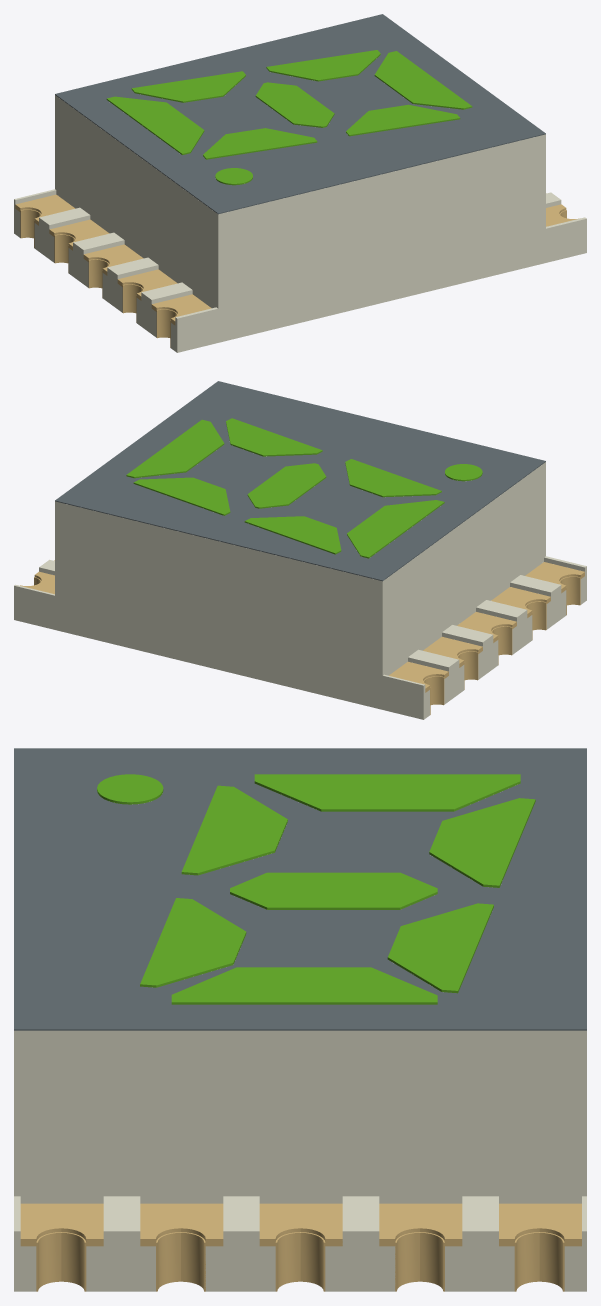
File: kc-kcsc02-123.glb
3 renders of one model, top to bottom at view 1: azimuth 30°, elevation 25°; view 2: azimuth 150°, elevation 25°; view 3: azimuth 270°, elevation 25°, orthographic. The views are drawn at different scales.
Visible parts, largest first — view 1: 0.75_0.75_0.6666666666666666_0, 0.16666666666666666_0.16666666666666666_0.16666666666666666_, 0.16666666666666666_0.4166666666666667_0_0, 0.75_0.5_0.25_0.9; view 2: 0.75_0.75_0.6666666666666666_0, 0.16666666666666666_0.16666666666666666_0.16666666666666666_, 0.16666666666666666_0.4166666666666667_0_0, 0.75_0.5_0.25_0.9; view 3: 0.75_0.75_0.6666666666666666_0, 0.16666666666666666_0.16666666666666666_0.16666666666666666_, 0.16666666666666666_0.4166666666666667_0_0, 0.75_0.5_0.25_0.9.
Part boxes in pixels (bbox=[...]): 0.75_0.75_0.6666666666666666_0: bbox=[14, 95, 586, 352]; 0.16666666666666666_0.16666666666666666_0.16666666666666666_: bbox=[55, 14, 545, 214]; 0.16666666666666666_0.4166666666666667_0_0: bbox=[106, 50, 472, 185]; 0.75_0.5_0.25_0.9: bbox=[15, 194, 578, 347]; 0.75_0.75_0.6666666666666666_0: bbox=[14, 462, 586, 719]; 0.16666666666666666_0.16666666666666666_0.16666666666666666_: bbox=[55, 381, 545, 581]; 0.16666666666666666_0.4166666666666667_0_0: bbox=[126, 418, 482, 558]; 0.75_0.5_0.25_0.9: bbox=[20, 560, 584, 714]; 0.75_0.75_0.6666666666666666_0: bbox=[14, 1030, 586, 1291]; 0.16666666666666666_0.16666666666666666_0.16666666666666666_: bbox=[14, 748, 586, 1030]; 0.16666666666666666_0.4166666666666667_0_0: bbox=[97, 774, 535, 1004]; 0.75_0.5_0.25_0.9: bbox=[20, 1203, 581, 1291].
Bounding box in the file's own units: 1 × 0.305 × 0.69.
